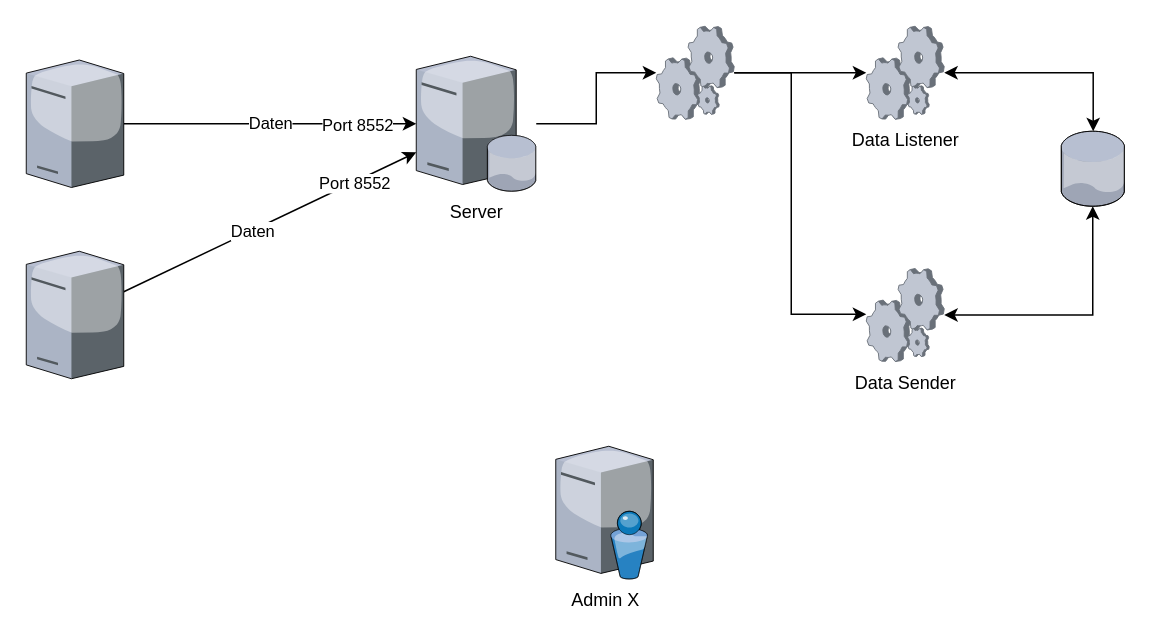
The diagram is 1157 pixels wide and 636 high, and some of its shapes have lost their labels. The centre of each missing label's shape, as x and y in pixels:
"Database" belongs at [1092,168].
"Server Agent" belongs at [695,72].
